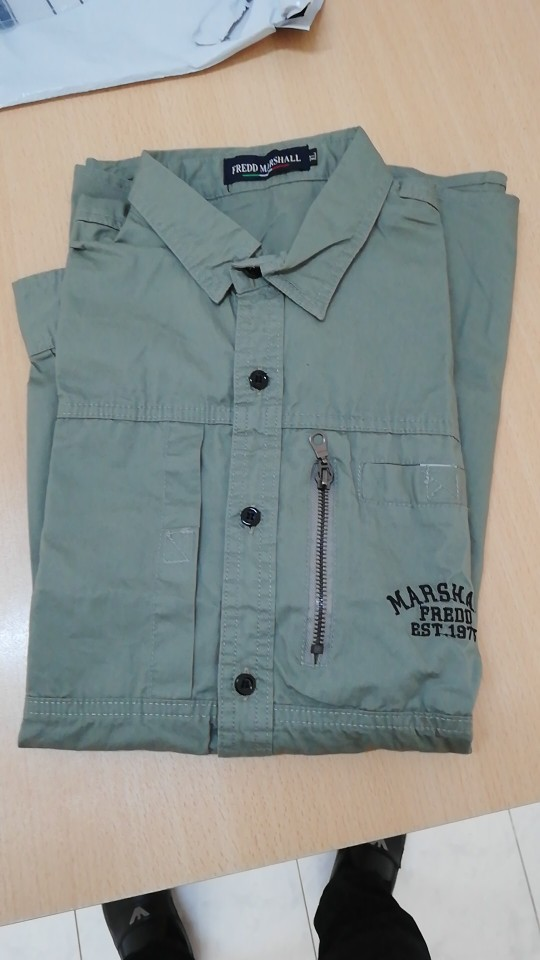shirts: (23, 139, 497, 750)
